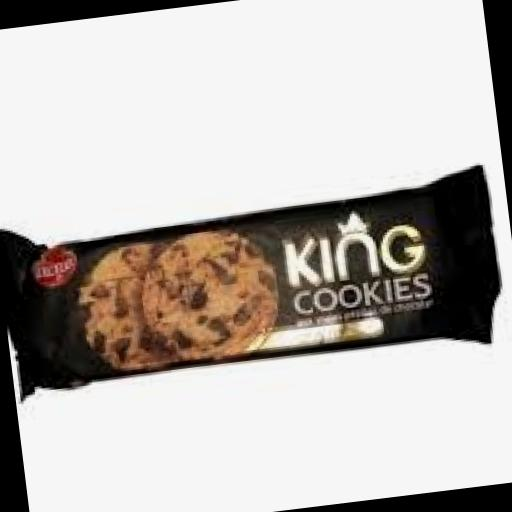king_cooking: (0, 103, 512, 437)
